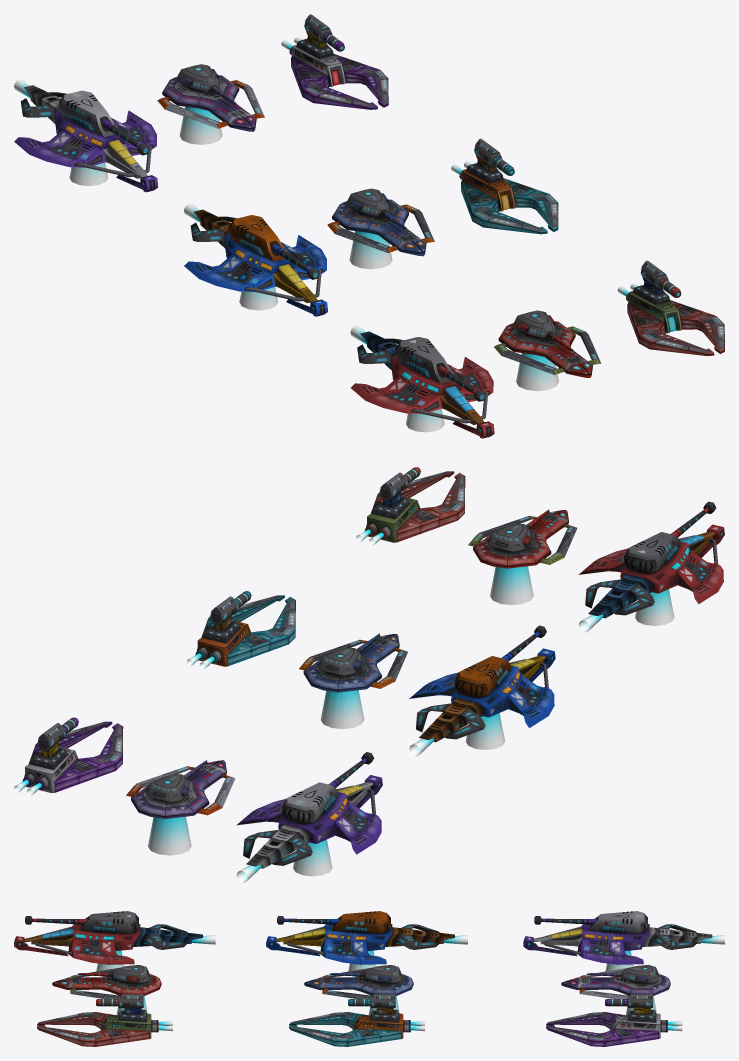
File: SciFi_StarShips Set2.FBX
3 views of the same model, one above another, from view 1: azimuth 30°, elevation 25°; view 2: azimuth 150°, elevation 25°; view 3: azimuth 270°, elevation 25° (orthographic). The views are drawn at different scales.
Visible parts, largest first — view 1: SciFi Starship 4, SciFi Starship 4.3, SciFi Starship 4.2, SciFi Starship 6.2, SciFi Starship 6.3, SciFi Starship 6, SciFi Starship 5, SciFi Starship 5.3, SciFi Starship 5.2, SciFi Starship 4_Turret, SciFi Starship 4.2_Turret001, SciFi Starship 4.3_Turret (+6 smaller); view 2: SciFi Starship 4.2, SciFi Starship 4, SciFi Starship 4.3, SciFi Starship 6.2, SciFi Starship 6.3, SciFi Starship 6, SciFi Starship 5, SciFi Starship 5.2, SciFi Starship 5.3, SciFi Starship 4_Turret, SciFi Starship 4.2_Turret001, SciFi Starship 4.3_Turret (+9 smaller); view 3: SciFi Starship 4, SciFi Starship 4.2, SciFi Starship 4.3, SciFi Starship 6.2, SciFi Starship 6, SciFi Starship 6.3, SciFi Starship 5.2, SciFi Starship 5.3, SciFi Starship 5, SciFi Starship 4_Turret, SciFi Starship 4.2_Turret001, SciFi Starship 4.3_Turret (+3 smaller).
Boxes of the visible parts, <box> form: SciFi Starship 4: <box>350,331,494,438</box>; SciFi Starship 4.3: <box>14,85,158,192</box>; SciFi Starship 4.2: <box>184,209,327,316</box>; SciFi Starship 6.2: <box>459,138,558,234</box>; SciFi Starship 6.3: <box>289,14,388,109</box>; SciFi Starship 6: <box>626,260,724,356</box>; SciFi Starship 5: <box>494,321,601,377</box>; SciFi Starship 5.3: <box>157,75,264,131</box>; SciFi Starship 5.2: <box>327,199,434,256</box>; SciFi Starship 4_Turret: <box>395,337,485,401</box>; SciFi Starship 4.2_Turret001: <box>228,215,319,279</box>; SciFi Starship 4.3_Turret: <box>58,90,149,155</box>; SciFi Starship 4.2: <box>409,648,555,742</box>; SciFi Starship 4: <box>578,524,724,618</box>; SciFi Starship 4.3: <box>236,775,382,868</box>; SciFi Starship 6.2: <box>195,591,295,666</box>; SciFi Starship 6.3: <box>22,717,123,792</box>; SciFi Starship 6: <box>364,467,465,542</box>; SciFi Starship 5: <box>468,510,577,568</box>; SciFi Starship 5.2: <box>299,634,407,692</box>; SciFi Starship 5.3: <box>126,760,235,818</box>; SciFi Starship 4_Turret: <box>623,501,716,574</box>; SciFi Starship 4.2_Turret001: <box>454,625,546,698</box>; SciFi Starship 4.3_Turret: <box>281,752,374,824</box>; SciFi Starship 4: <box>14,924,202,964</box>; SciFi Starship 4.2: <box>266,924,454,964</box>; SciFi Starship 4.3: <box>523,924,712,964</box>; SciFi Starship 6.2: <box>289,994,410,1046</box>; SciFi Starship 6: <box>37,994,158,1046</box>; SciFi Starship 6.3: <box>546,994,667,1046</box>; SciFi Starship 5.2: <box>304,967,413,998</box>; SciFi Starship 5.3: <box>561,967,670,998</box>; SciFi Starship 5: <box>52,967,161,998</box>; SciFi Starship 4_Turret: <box>25,911,138,934</box>; SciFi Starship 4.2_Turret001: <box>277,911,390,934</box>; SciFi Starship 4.3_Turret: <box>534,911,647,934</box>.
Bounding box in the file's own units: 840 × 206 × 1988.
